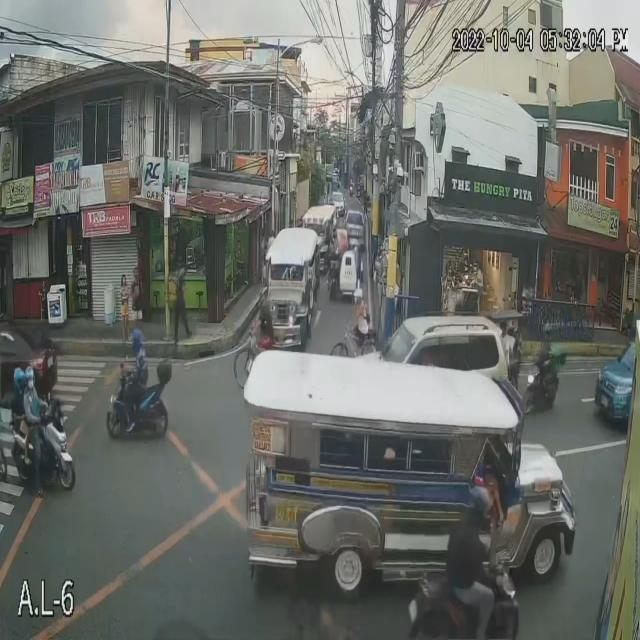half: (12, 366, 24, 396), (130, 326, 142, 353), (23, 367, 35, 393)
